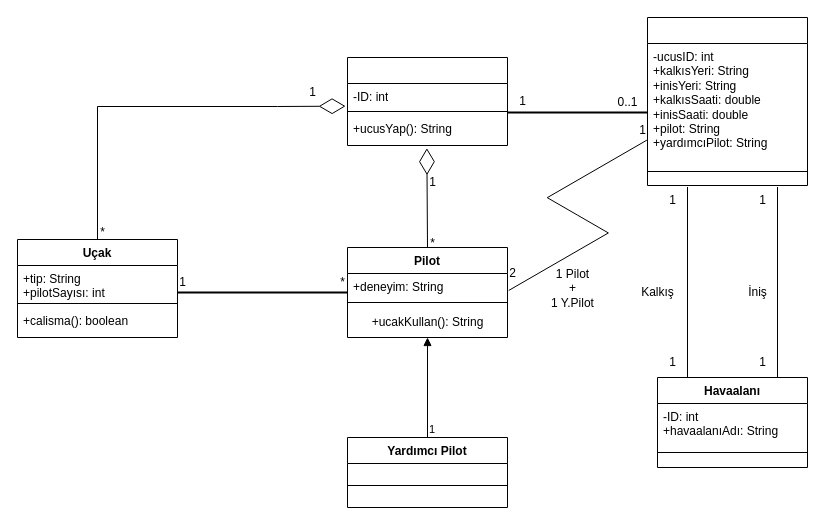
Some shapes in this 825 by 525 pixel diagram are drawn without their labels. The box of each missing label's shape, as (x1, y1, x2, y2) in pixels:
Hava Yolu: (346, 56, 508, 146)
Uçuş: (646, 16, 808, 186)
